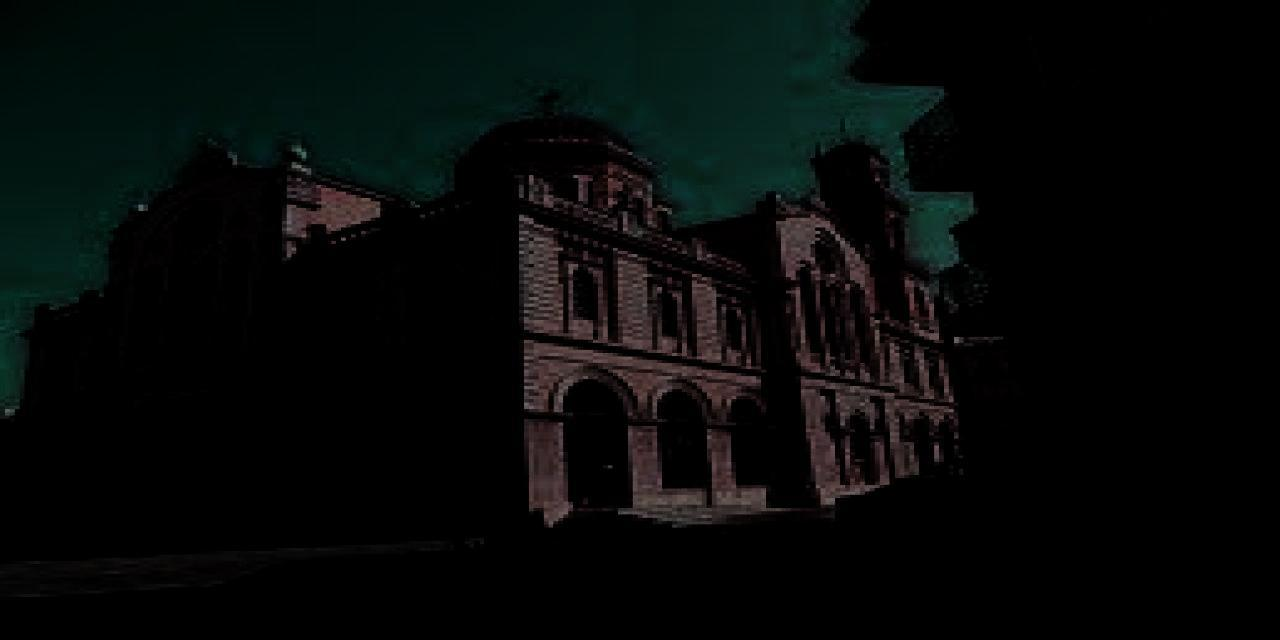Agios Minas: (20, 81, 943, 539)
